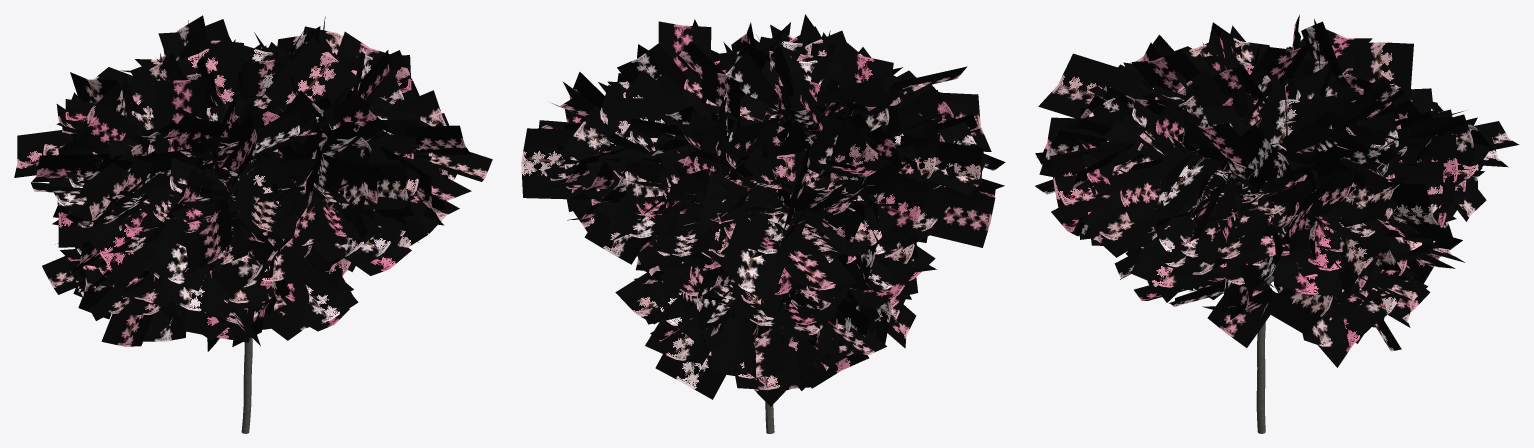
Rendered from tree_08_red_maple.glb.
The picture shows the model from 3 angles, left to right: view 1: azimuth 30°, elevation 25°; view 2: azimuth 150°, elevation 25°; view 3: azimuth 270°, elevation 25°; orthographic projection. The views are drawn at different scales.
Parts seen in each view (by area): view 1: tree_08_red_maple.leaves, tree_08_red_maple.trunk_branches; view 2: tree_08_red_maple.leaves; view 3: tree_08_red_maple.leaves, tree_08_red_maple.trunk_branches.
Boxes of the visible parts, x1,y1,x2,y2 form: tree_08_red_maple.leaves: (14, 15, 492, 351); tree_08_red_maple.trunk_branches: (241, 337, 252, 433); tree_08_red_maple.leaves: (521, 14, 1005, 406); tree_08_red_maple.leaves: (1035, 14, 1519, 367); tree_08_red_maple.trunk_branches: (1256, 276, 1274, 433).
Bounding box in the file's own units: 5.66 × 5.19 × 5.96.
Materials: 3 (2 with a texture image).
